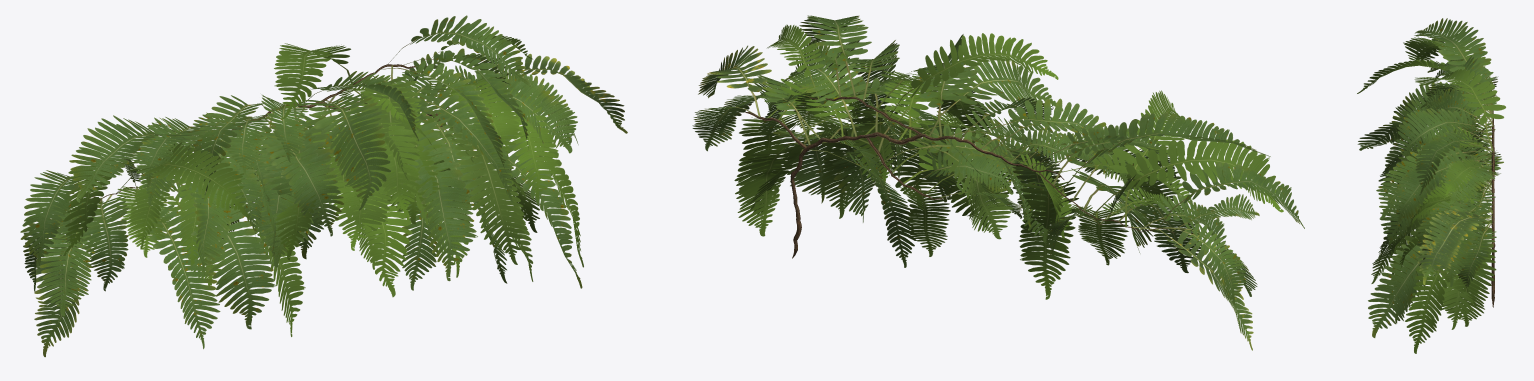
Rendered from fern_wall.glb.
3 renders of one model, left to right at view 1: azimuth 30°, elevation 25°; view 2: azimuth 150°, elevation 25°; view 3: azimuth 270°, elevation 25°, orthographic. The views are drawn at different scales.
Visible parts, largest first — view 1: Polypodium_vulgare_HD_Polypodium_01b_0, Polypodium_vulgare_HD_Polypodium_01a_0, Polypodium_vulgare_HD_Polypodium_01c_0; view 2: Polypodium_vulgare_HD_Polypodium_01b_0, Polypodium_vulgare_HD_Polypodium_01a_0, Polypodium_vulgare_HD_Polypodium_01c_0, Polypodium_vulgare_HD_Polypodium root_0; view 3: Polypodium_vulgare_HD_Polypodium_01b_0, Polypodium_vulgare_HD_Polypodium_01a_0, Polypodium_vulgare_HD_Polypodium_01c_0, Polypodium_vulgare_HD_Polypodium root_0.
Part boxes in pixels (bbox=[...]): Polypodium_vulgare_HD_Polypodium_01b_0: bbox=[20, 15, 582, 349]; Polypodium_vulgare_HD_Polypodium_01a_0: bbox=[63, 33, 583, 336]; Polypodium_vulgare_HD_Polypodium_01c_0: bbox=[31, 53, 627, 357]; Polypodium_vulgare_HD_Polypodium_01b_0: bbox=[692, 15, 1304, 305]; Polypodium_vulgare_HD_Polypodium_01a_0: bbox=[734, 24, 1283, 299]; Polypodium_vulgare_HD_Polypodium_01c_0: bbox=[698, 45, 1253, 350]; Polypodium_vulgare_HD_Polypodium root_0: bbox=[745, 96, 1176, 258]; Polypodium_vulgare_HD_Polypodium_01b_0: bbox=[1357, 18, 1503, 337]; Polypodium_vulgare_HD_Polypodium_01a_0: bbox=[1357, 37, 1505, 353]; Polypodium_vulgare_HD_Polypodium_01c_0: bbox=[1416, 91, 1497, 284]; Polypodium_vulgare_HD_Polypodium root_0: bbox=[1491, 82, 1495, 307].
Size of the model in its own units: 1.05 by 0.434 by 0.3611.
Materials: 4 (4 with a texture image).
